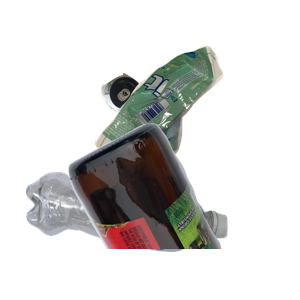glass: (66, 120, 300, 300)
metal: (99, 70, 236, 176)
plastic: (23, 169, 243, 300)
trash: (92, 44, 300, 211)
